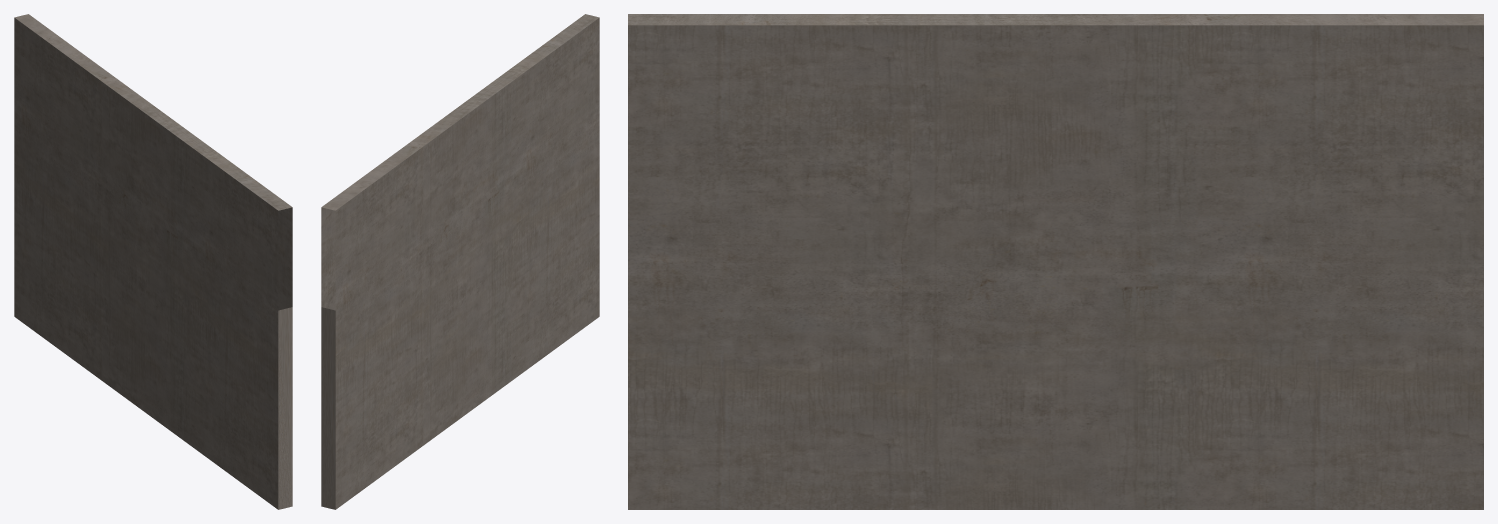
Rendered from wall17_4.obj.
3 renders of one model, left to right at view 1: azimuth 30°, elevation 25°; view 2: azimuth 150°, elevation 25°; view 3: azimuth 270°, elevation 25°, orthographic. The views are drawn at different scales.
Parts seen in each view (by area): view 1: wall.017_4; view 2: wall.017_4; view 3: wall.017_4.
Boxes of the visible parts, x1,y1,x2,y2 form: wall.017_4: (14, 14, 292, 509); wall.017_4: (321, 14, 599, 509); wall.017_4: (628, 14, 1483, 509).
Size of the model in its own units: 0.05 by 1 by 1.6.
